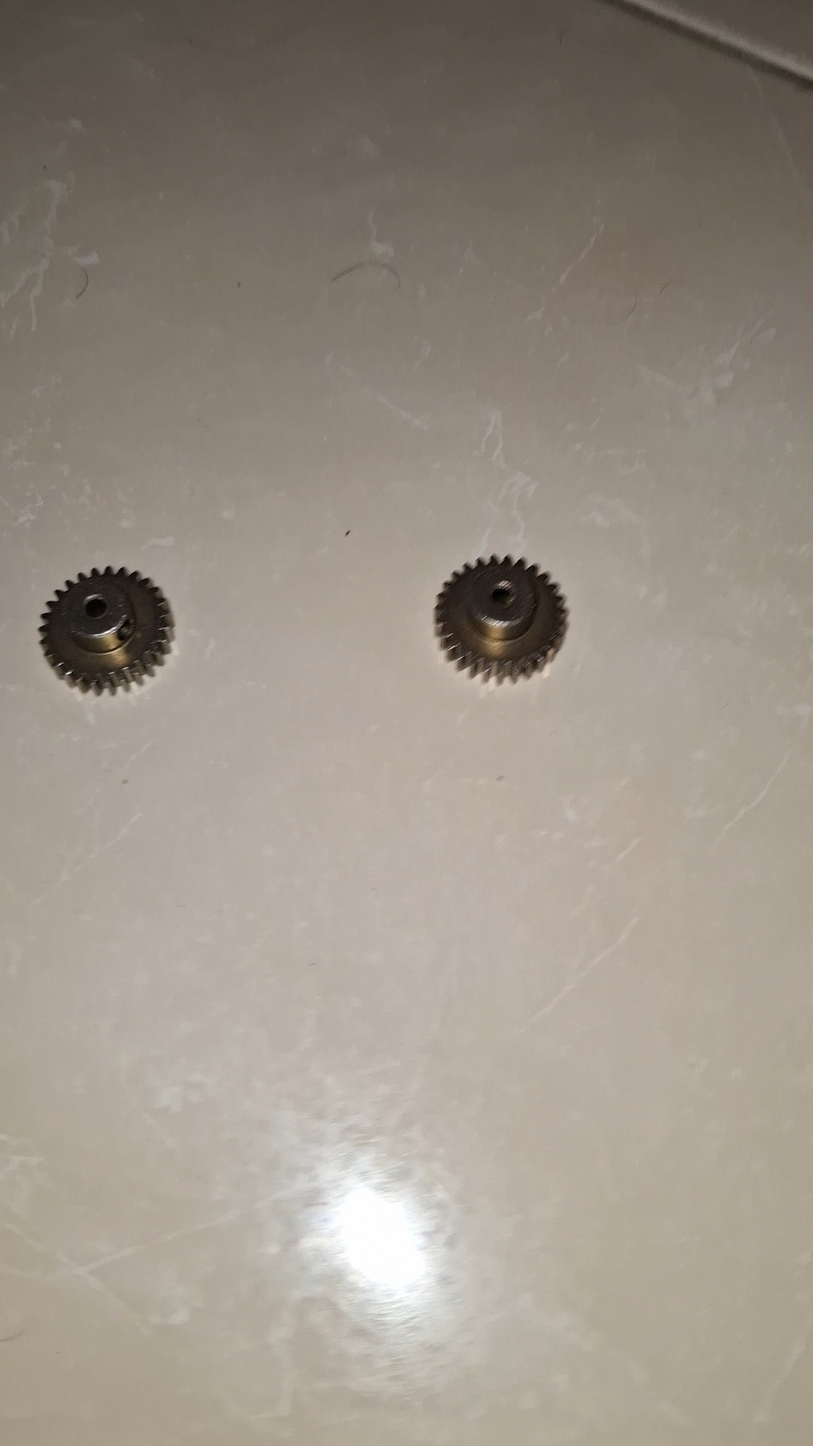spur gear: (40, 567, 172, 694), (435, 556, 567, 681)
